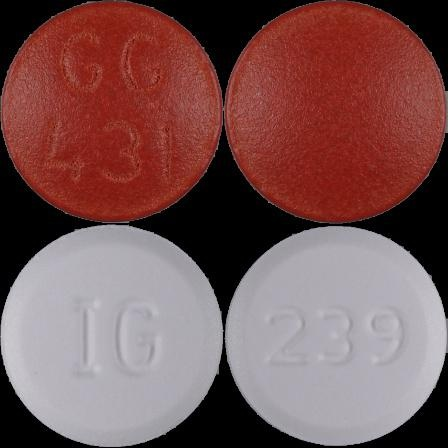10544-110: (0, 0, 224, 224)
